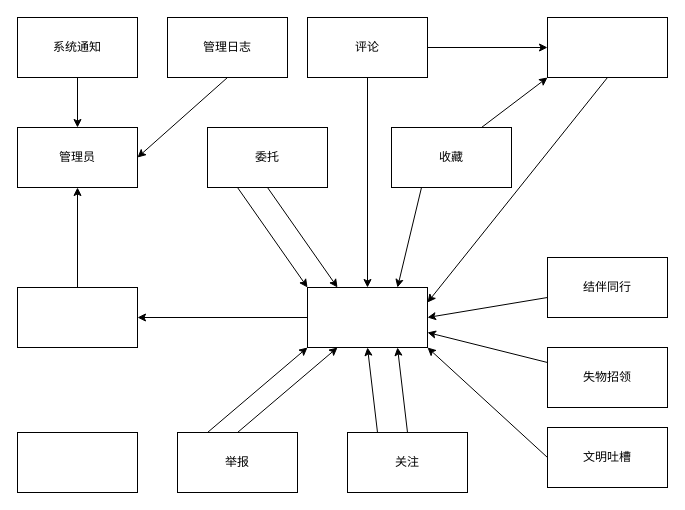
The diagram is 685 pixels wide and 510 high, and some of its shapes have lost their labels. The shapes that lost their labels are listed below. From the top down, each one's box as (x1, y1, x2, y2) in pixels, then its label:
(546, 16, 668, 78): 博客
(16, 286, 138, 348): 账户
(306, 286, 428, 348): 用户
(16, 432, 138, 492): 系统概况
